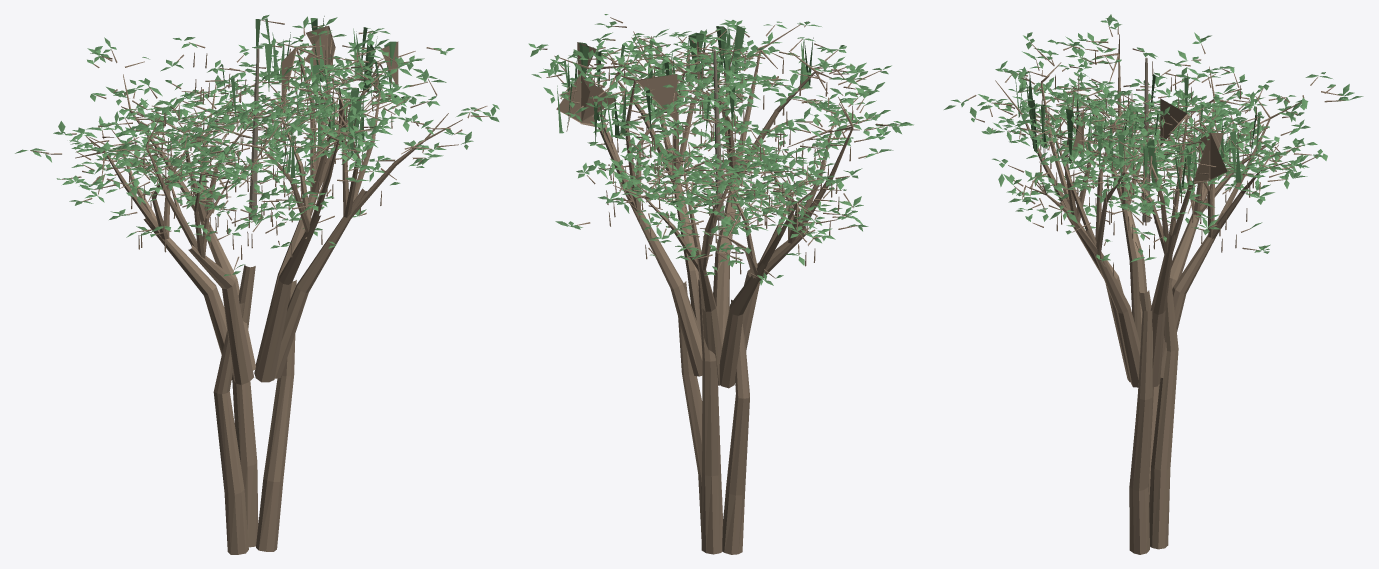
The model's file is E07_GUABIROBA_JOVEM_ESTRUTURAL_CANDIDATO_REV09.glb.
3 renders of one model, left to right at view 1: azimuth 30°, elevation 25°; view 2: azimuth 150°, elevation 25°; view 3: azimuth 270°, elevation 25°, orthographic. The views are drawn at different scales.
Visible parts, largest first — view 1: E07_R1Z2_bark, E07_R1Z2_twig, E07_R1Z2_leaf0, E07_R1Z2_leaf2, E07_R1Z2_leaf4, E07_R1Z2_leaf1, E07_R1Z2_leaf3, young_apical_leader; view 2: E07_R1Z2_twig, E07_R1Z2_bark, E07_R1Z2_leaf1, E07_R1Z2_leaf0, E07_R1Z2_leaf2, E07_R1Z2_leaf4, E07_R1Z2_leaf3, young_apical_leader; view 3: E07_R1Z2_twig, E07_R1Z2_bark, E07_R1Z2_leaf2, E07_R1Z2_leaf0, E07_R1Z2_leaf4, E07_R1Z2_leaf1, E07_R1Z2_leaf3.
Part boxes in pixels (x1,y1,x2,y2): E07_R1Z2_bark: (143, 158, 366, 554); E07_R1Z2_twig: (30, 20, 489, 270); E07_R1Z2_leaf0: (53, 15, 499, 245); E07_R1Z2_leaf2: (33, 17, 491, 274); E07_R1Z2_leaf4: (42, 26, 481, 268); E07_R1Z2_leaf1: (31, 16, 482, 276); E07_R1Z2_leaf3: (15, 16, 499, 248); young_apical_leader: (248, 48, 259, 220); E07_R1Z2_twig: (539, 17, 898, 278); E07_R1Z2_bark: (618, 145, 809, 554); E07_R1Z2_leaf1: (538, 23, 899, 285); E07_R1Z2_leaf0: (530, 21, 910, 280); E07_R1Z2_leaf2: (531, 22, 911, 270); E07_R1Z2_leaf4: (528, 21, 913, 278); E07_R1Z2_leaf3: (536, 14, 901, 285); young_apical_leader: (713, 50, 724, 220); E07_R1Z2_twig: (967, 26, 1345, 276); E07_R1Z2_bark: (1058, 186, 1223, 554); E07_R1Z2_leaf2: (971, 17, 1349, 261); E07_R1Z2_leaf0: (944, 14, 1344, 254); E07_R1Z2_leaf4: (962, 20, 1354, 262); E07_R1Z2_leaf1: (961, 26, 1363, 258); E07_R1Z2_leaf3: (951, 19, 1335, 260).
Size of the model in its own units: 2.68 by 3.44 by 2.68.
